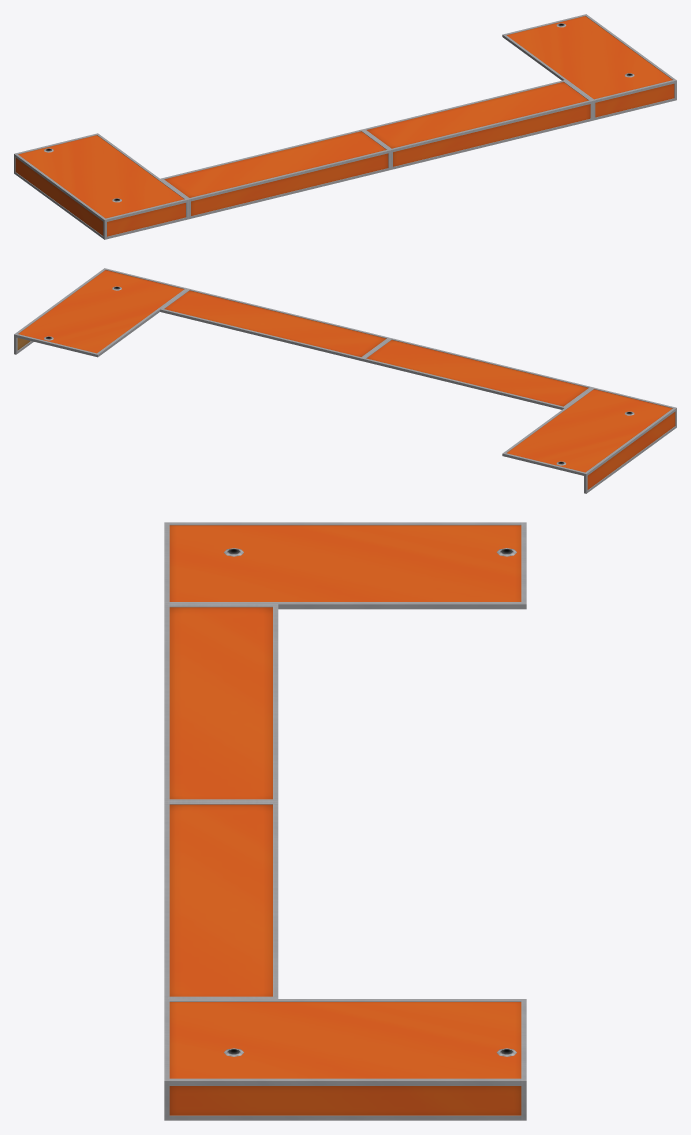
The model's file is jsf_4P_s04_c01_t03_DX.fbx.
3 renders of one model, top to bottom at view 1: azimuth 30°, elevation 25°; view 2: azimuth 150°, elevation 25°; view 3: azimuth 270°, elevation 25°, orthographic. The views are drawn at different scales.
Visible parts, largest first — view 1: jsf_4P_s04_c01_t03_DX; view 2: jsf_4P_s04_c01_t03_DX; view 3: jsf_4P_s04_c01_t03_DX.
Boxes of the visible parts, x1,y1,x2,y2 form: jsf_4P_s04_c01_t03_DX: (14,14,676,239); jsf_4P_s04_c01_t03_DX: (14,268,676,493); jsf_4P_s04_c01_t03_DX: (164,522,526,1120).
Size of the model in its own units: 378 by 12.99 by 104.
